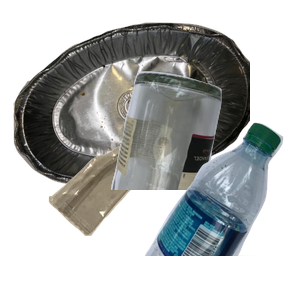glass: (109, 69, 300, 249)
metal: (11, 20, 251, 200)
plastic: (142, 120, 300, 300)
trash: (46, 144, 188, 300)
